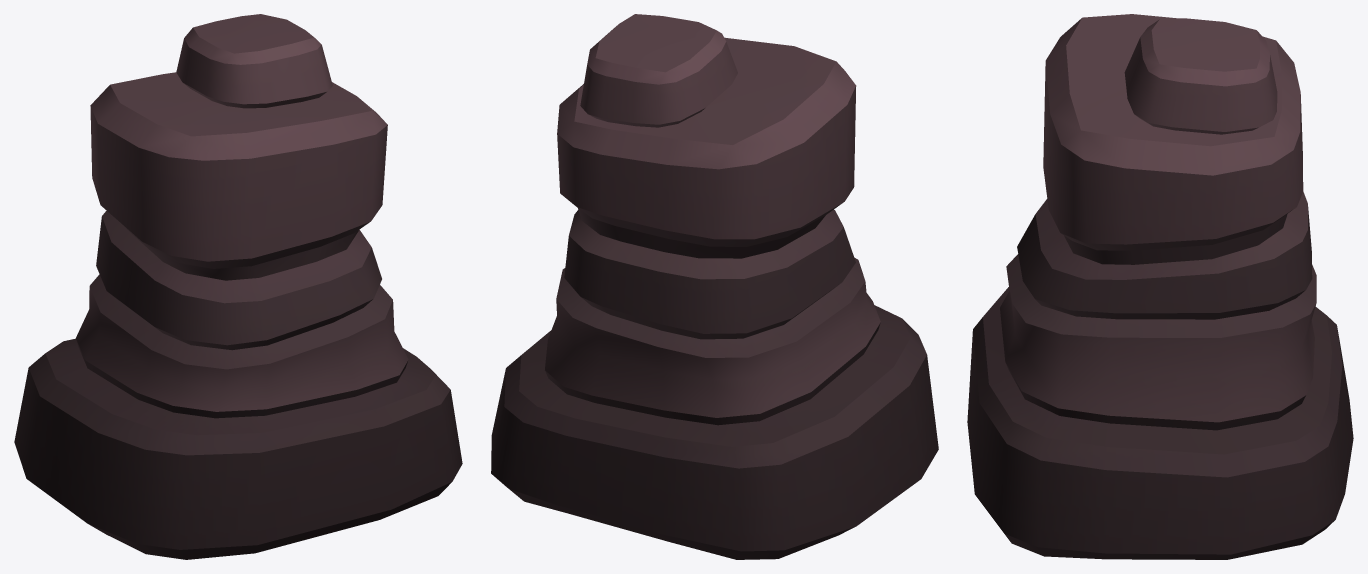
3 renders of one model, left to right at view 1: azimuth 30°, elevation 25°; view 2: azimuth 150°, elevation 25°; view 3: azimuth 270°, elevation 25°, orthographic. The views are drawn at different scales.
Visible parts, largest first — view 1: Cube.010; view 2: Cube.010; view 3: Cube.010.
Boxes of the visible parts, left/top/right/bottom form: Cube.010: left=14, top=14, right=462, bottom=559; Cube.010: left=491, top=14, right=938, bottom=559; Cube.010: left=967, top=14, right=1353, bottom=559.
Bounding box in the file's own units: 4.45 × 5.09 × 3.91.
1 material, 1 textured.
